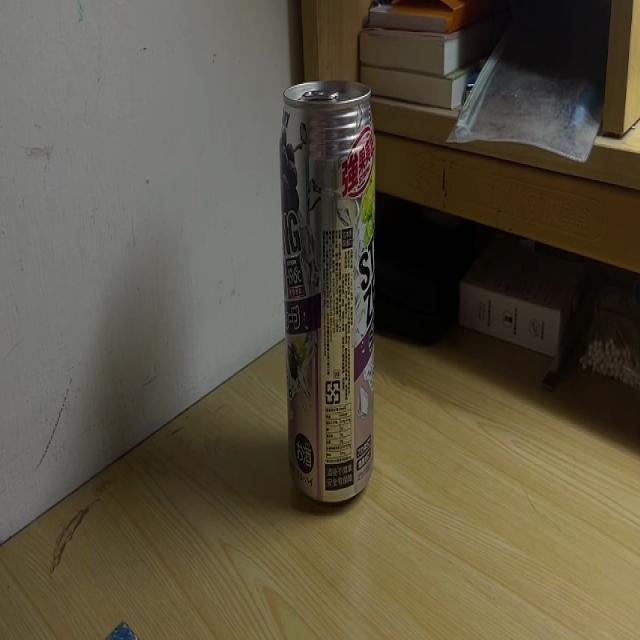Liquor: (279, 78, 376, 504)
